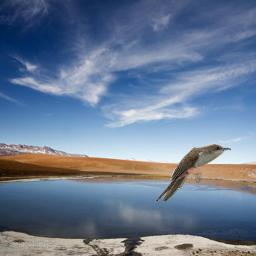Cuckoo: (155, 144, 231, 201)
